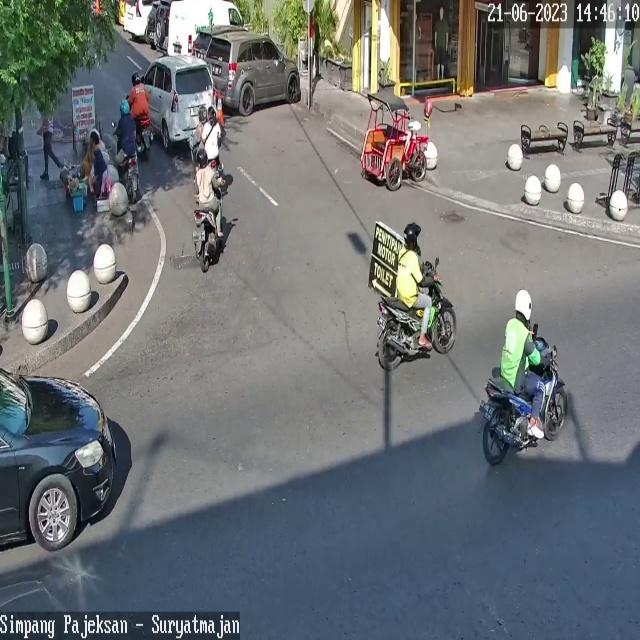bus: (479, 338, 567, 466), (376, 261, 458, 369), (193, 208, 221, 274), (118, 153, 142, 202), (132, 111, 152, 160), (207, 156, 225, 178)
motorcycle: (0, 367, 118, 552), (207, 31, 301, 117), (140, 54, 218, 148), (166, 0, 245, 55), (123, 0, 152, 36), (191, 28, 213, 61)
